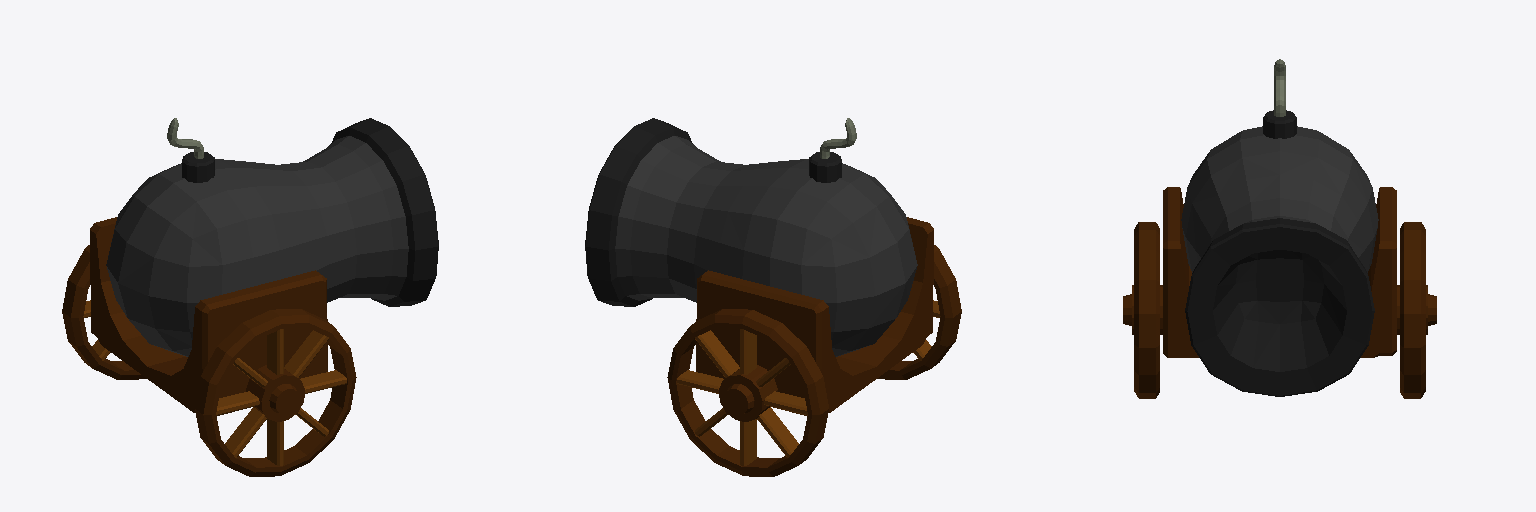
Rendered from Cannon.obj.
The picture shows the model from 3 angles: view 1: azimuth 30°, elevation 25°; view 2: azimuth 150°, elevation 25°; view 3: azimuth 270°, elevation 25°; orthographic projection.
Visible parts, largest first — view 1: Cannon_Cube.048, Cannon_Wheels_Cylinder.004; view 2: Cannon_Cube.048, Cannon_Wheels_Cylinder.004; view 3: Cannon_Cube.048, Cannon_Wheels_Cylinder.004.
Boxes of the visible parts, <box> form: Cannon_Cube.048: <box>90,118,438,415</box>; Cannon_Wheels_Cylinder.004: <box>62,245,356,476</box>; Cannon_Cube.048: <box>585,118,933,415</box>; Cannon_Wheels_Cylinder.004: <box>667,245,961,476</box>; Cannon_Cube.048: <box>1163,59,1396,396</box>; Cannon_Wheels_Cylinder.004: <box>1123,222,1436,398</box>.
Size of the model in its own units: 3.37 by 3.67 by 3.32.